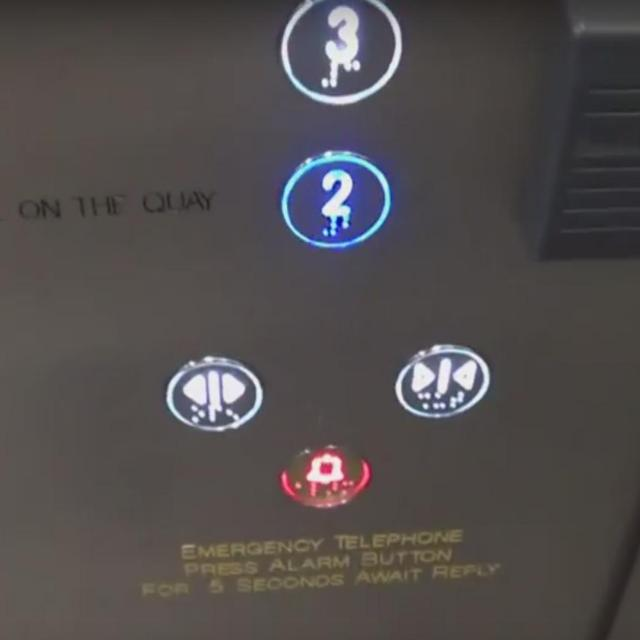2: (279, 150, 394, 248)
3: (278, 0, 405, 108)
alarm: (280, 442, 371, 513)
close: (392, 344, 492, 422)
open: (162, 352, 266, 432)
